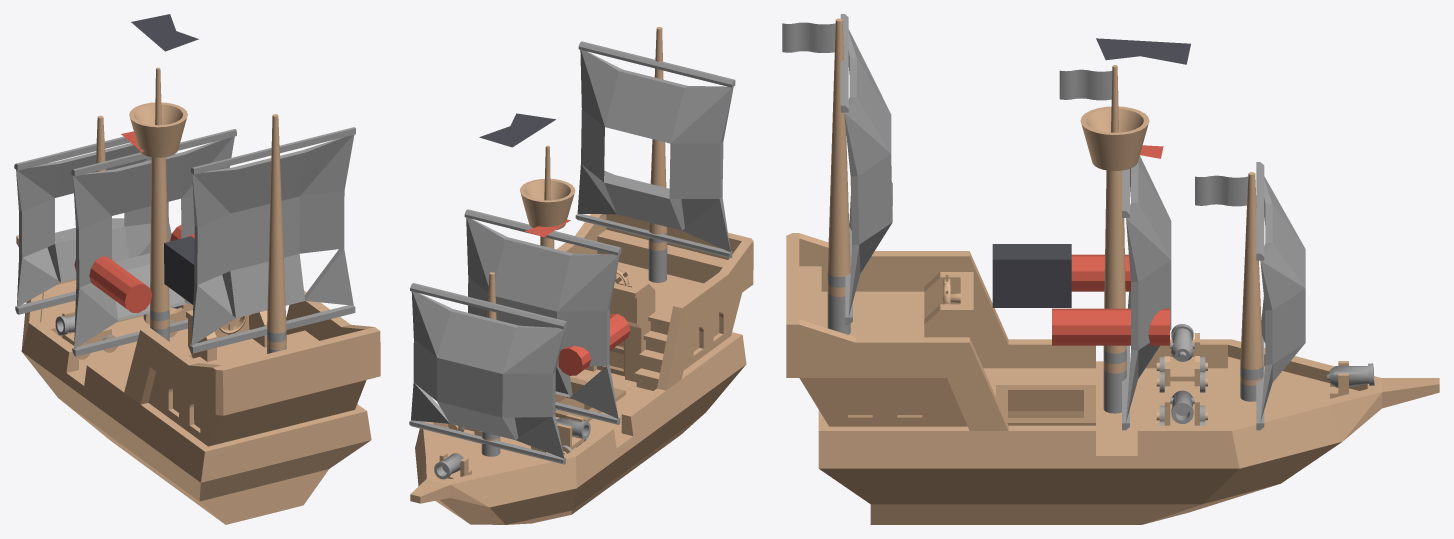
Rendered from ile_01_corsaire_du_rivage_anime.glb.
3 renders of one model, left to right at view 1: azimuth 30°, elevation 25°; view 2: azimuth 150°, elevation 25°; view 3: azimuth 270°, elevation 25°, orthographic. The views are drawn at different scales.
Parts seen in each view (by area): view 1: navire_pirate_sombre_assimp, Canon_Decor.001, Coffre_Commandement, Grand_Pavillon; view 2: navire_pirate_sombre_assimp, Canon_Decor.001, Grand_Pavillon; view 3: navire_pirate_sombre_assimp, Coffre_Commandement, Canon_Decor, Grand_Pavillon, Canon_Decor.001.
Boxes of the visible parts, x1,y1,x2,y2 form: navire_pirate_sombre_assimp: [14, 67, 380, 524]; Canon_Decor.001: [74, 256, 152, 312]; Coffre_Commandement: [164, 236, 194, 304]; Grand_Pavillon: [131, 14, 198, 51]; navire_pirate_sombre_assimp: [409, 27, 753, 524]; Canon_Decor.001: [558, 313, 630, 375]; Grand_Pavillon: [479, 113, 555, 147]; navire_pirate_sombre_assimp: [782, 14, 1439, 524]; Coffre_Commandement: [992, 244, 1071, 307]; Canon_Decor: [1052, 308, 1169, 345]; Grand_Pavillon: [1096, 38, 1190, 64]; Canon_Decor.001: [1071, 254, 1130, 291].
Bounding box in the file's own units: 28.5 × 65.5 × 80.98.
